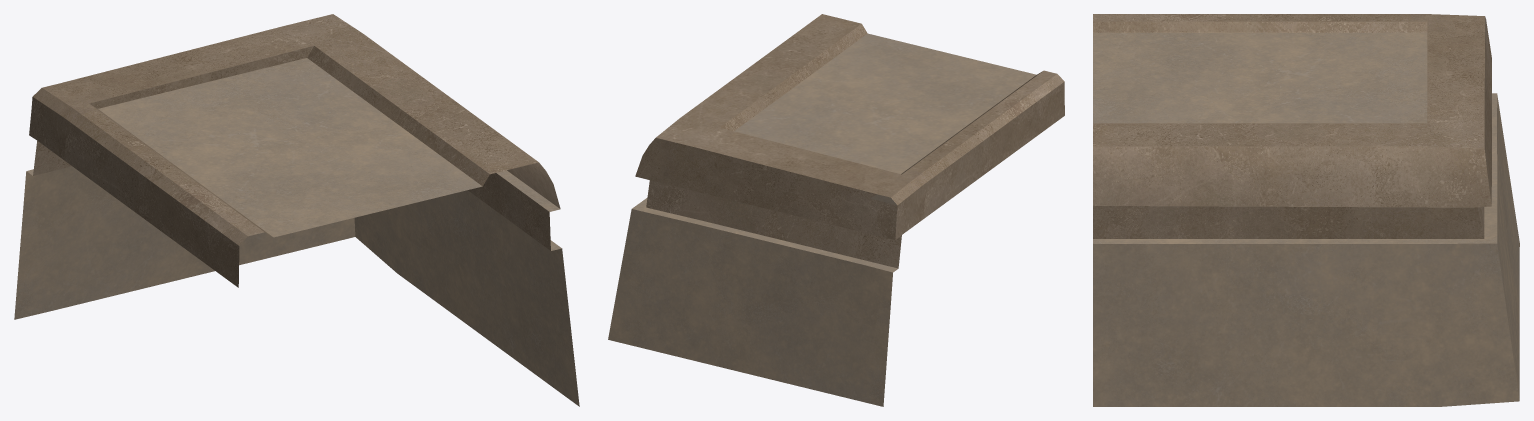
The model's file is Trottoir_2.2.fbx.
3 renders of one model, left to right at view 1: azimuth 30°, elevation 25°; view 2: azimuth 150°, elevation 25°; view 3: azimuth 270°, elevation 25°, orthographic. The views are drawn at different scales.
Visible parts, largest first — view 1: Trottoir_2.2; view 2: Trottoir_2.2; view 3: Trottoir_2.2.
Part boxes in pixels (x1=…): Trottoir_2.2: x1=14, y1=14, x2=579, y2=406; Trottoir_2.2: x1=608, y1=14, x2=1064, y2=406; Trottoir_2.2: x1=1093, y1=14, x2=1519, y2=406.
Size of the model in its own units: 856 by 611 by 976.
